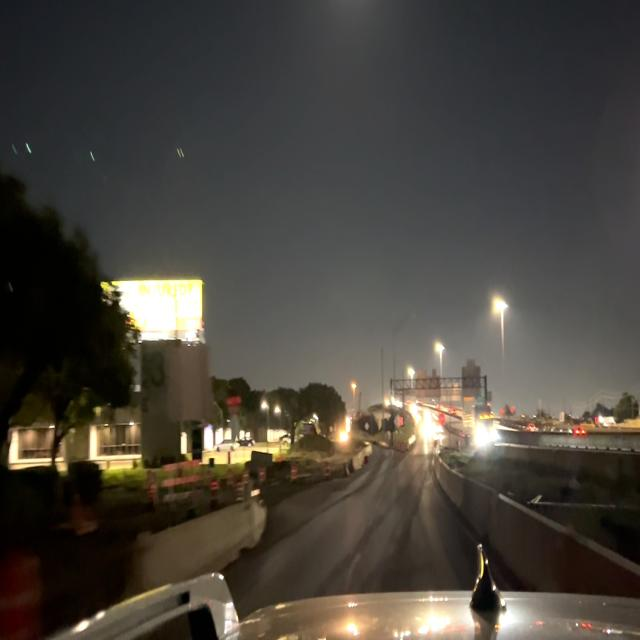back-of-sign: (414, 367, 442, 405), (460, 358, 483, 399)
